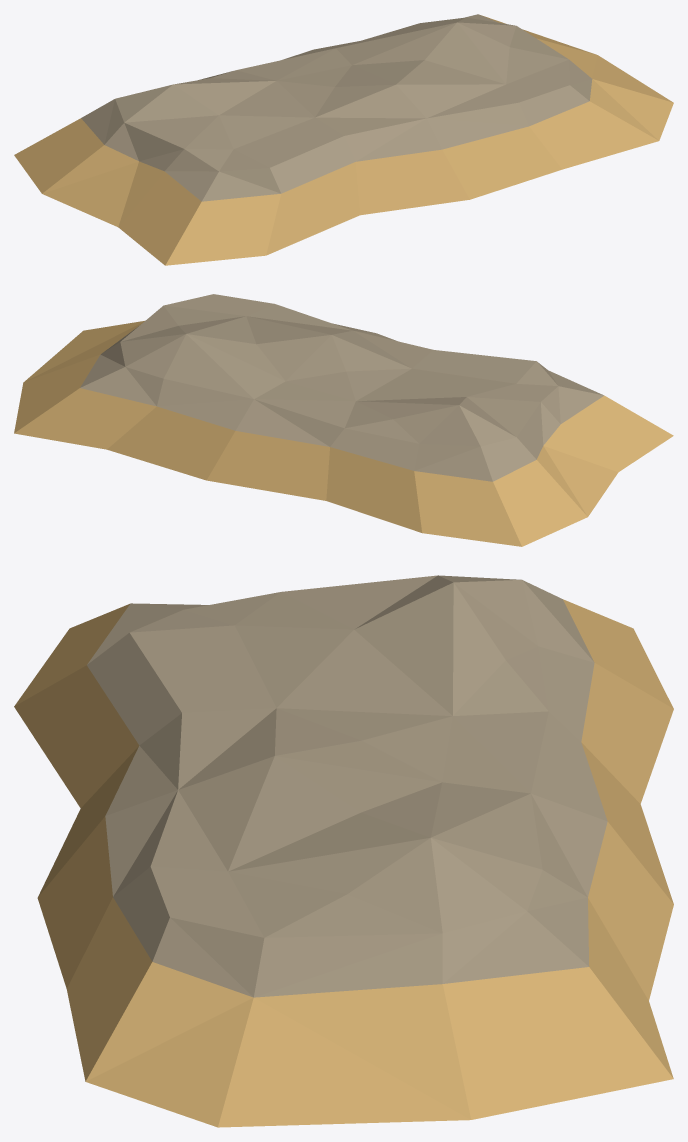
The model's file is TB_D_Env_Mound_Big_B.FBX.
The picture shows the model from 3 angles, top to bottom: view 1: azimuth 30°, elevation 25°; view 2: azimuth 150°, elevation 25°; view 3: azimuth 270°, elevation 25°; orthographic projection. The views are drawn at different scales.
Parts seen in each view (by area): view 1: TB_D_Env_Mound_Big_B; view 2: TB_D_Env_Mound_Big_B; view 3: TB_D_Env_Mound_Big_B.
Boxes of the visible parts, left/top/right/bottom form: TB_D_Env_Mound_Big_B: left=14, top=14, right=673, bottom=265; TB_D_Env_Mound_Big_B: left=14, top=294, right=673, bottom=546; TB_D_Env_Mound_Big_B: left=14, top=575, right=673, bottom=1127.
Size of the model in its own units: 25.17 by 3.34 by 13.6.
